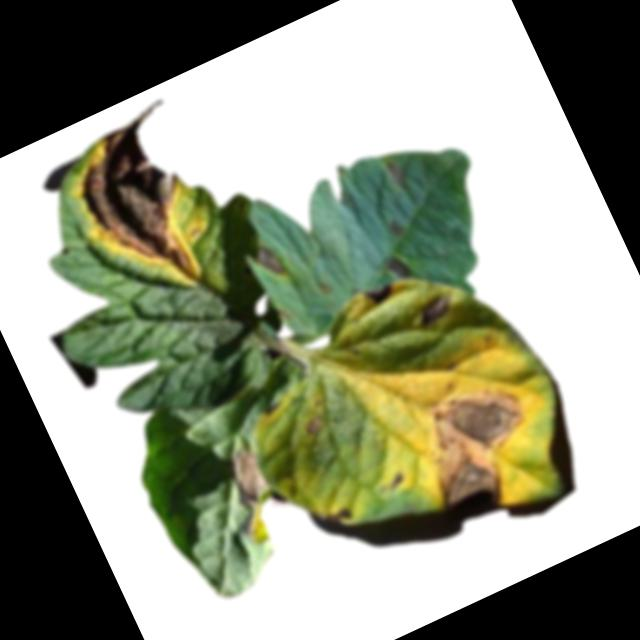Early_blight: (45, 93, 237, 313), (398, 359, 569, 529), (209, 441, 294, 550), (412, 289, 462, 329), (250, 238, 289, 282), (315, 492, 357, 531), (360, 276, 400, 311), (379, 155, 413, 196), (382, 247, 415, 283), (300, 413, 328, 440), (384, 213, 409, 240), (383, 465, 409, 490)
